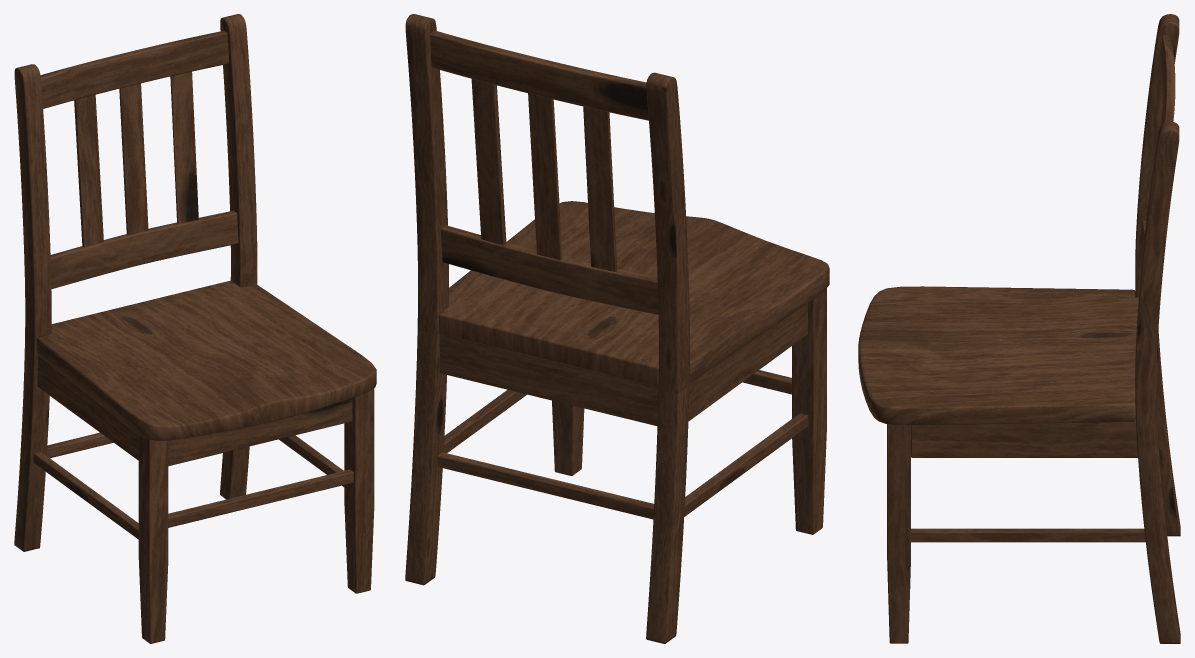
File: Wood_Chair.obj
3 views of the same model, side by side, from view 1: azimuth 30°, elevation 25°; view 2: azimuth 150°, elevation 25°; view 3: azimuth 270°, elevation 25° (orthographic). The views are drawn at different scales.
Parts seen in each view (by area): view 1: Cube.009, Cube.020, Cube.025, Cube.021, Cube.028, Cube.026, Cube.104, Cube.023; view 2: Cube.020, Cube.009, Cube.025, Cube.028, Cube.021, Cube.104, Cube.026, Cube.023; view 3: Cube.009, Cube.020, Cube.023, Cube.021, Cube.026, Cube.025.
Part boxes in pixels (x1,y1,x2,y2): Cube.009: [36, 280, 376, 440]; Cube.020: [14, 14, 257, 551]; Cube.025: [40, 30, 238, 289]; Cube.021: [138, 388, 374, 643]; Cube.028: [74, 71, 198, 247]; Cube.026: [33, 432, 353, 539]; Cube.104: [168, 398, 352, 466]; Cube.023: [37, 355, 138, 460]; Cube.020: [405, 14, 689, 643]; Cube.009: [438, 201, 829, 386]; Cube.025: [430, 30, 658, 314]; Cube.028: [471, 79, 617, 271]; Cube.021: [552, 288, 826, 534]; Cube.104: [439, 333, 658, 425]; Cube.026: [437, 370, 808, 519]; Cube.023: [688, 303, 807, 421]; Cube.009: [858, 286, 1138, 425]; Cube.020: [1135, 14, 1180, 643]; Cube.023: [911, 421, 1137, 457]; Cube.021: [887, 424, 910, 643]; Cube.026: [911, 528, 1145, 542]; Cube.025: [1139, 35, 1175, 264].
Bounding box in the file's own units: 0.4373 × 0.8595 × 0.488.
Materials: 1 (1 with a texture image).
